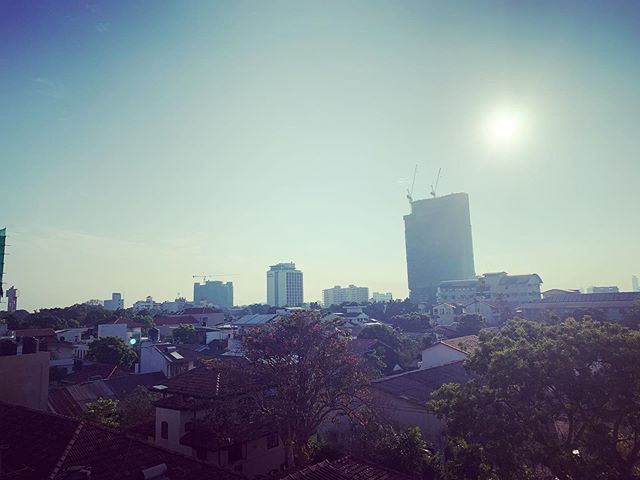building: (162, 372, 294, 477), (407, 190, 479, 303), (440, 271, 544, 310), (262, 263, 303, 309), (190, 279, 235, 306)
crane: (405, 163, 421, 204), (430, 159, 446, 200)
sky: (1, 1, 637, 267)
sun: (479, 102, 529, 152)
tree: (439, 318, 640, 480), (217, 306, 373, 480)
